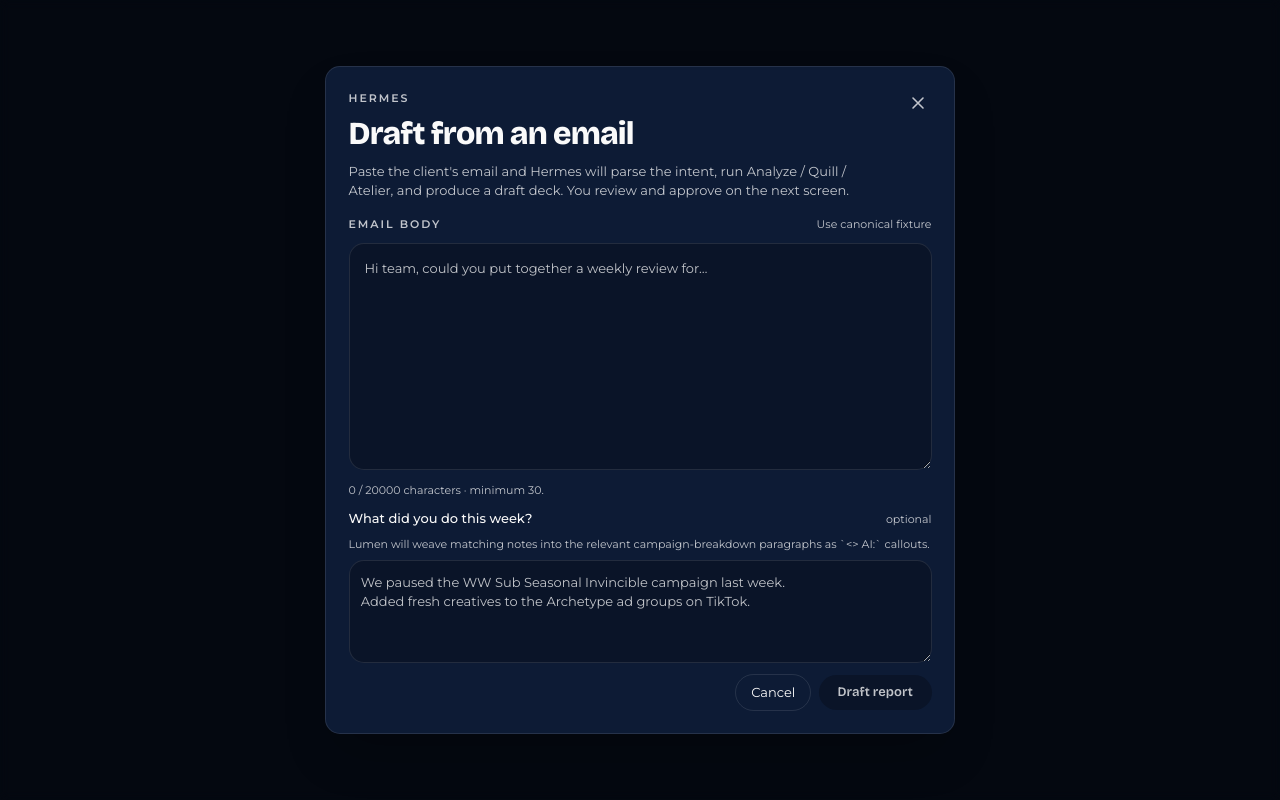
Test: DraftFromEmailModal › renders an error alert on API failure
Type "Hi team, please send us a weekly review for GlobalComix on Meta." into the text box labelled "Email body" at coordinates (640, 357), box [348,243,932,470]
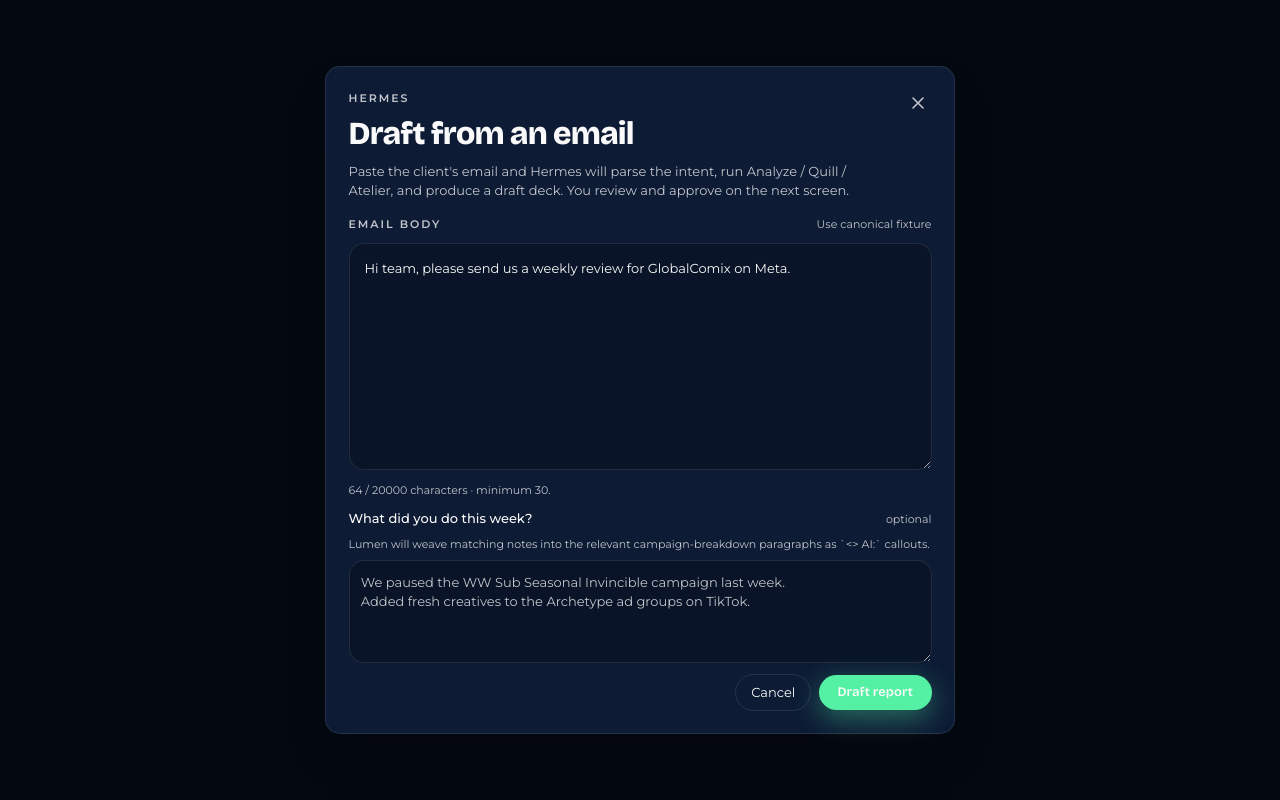
Click the button "Draft report" at coordinates (875, 692), box [819,675,932,710]
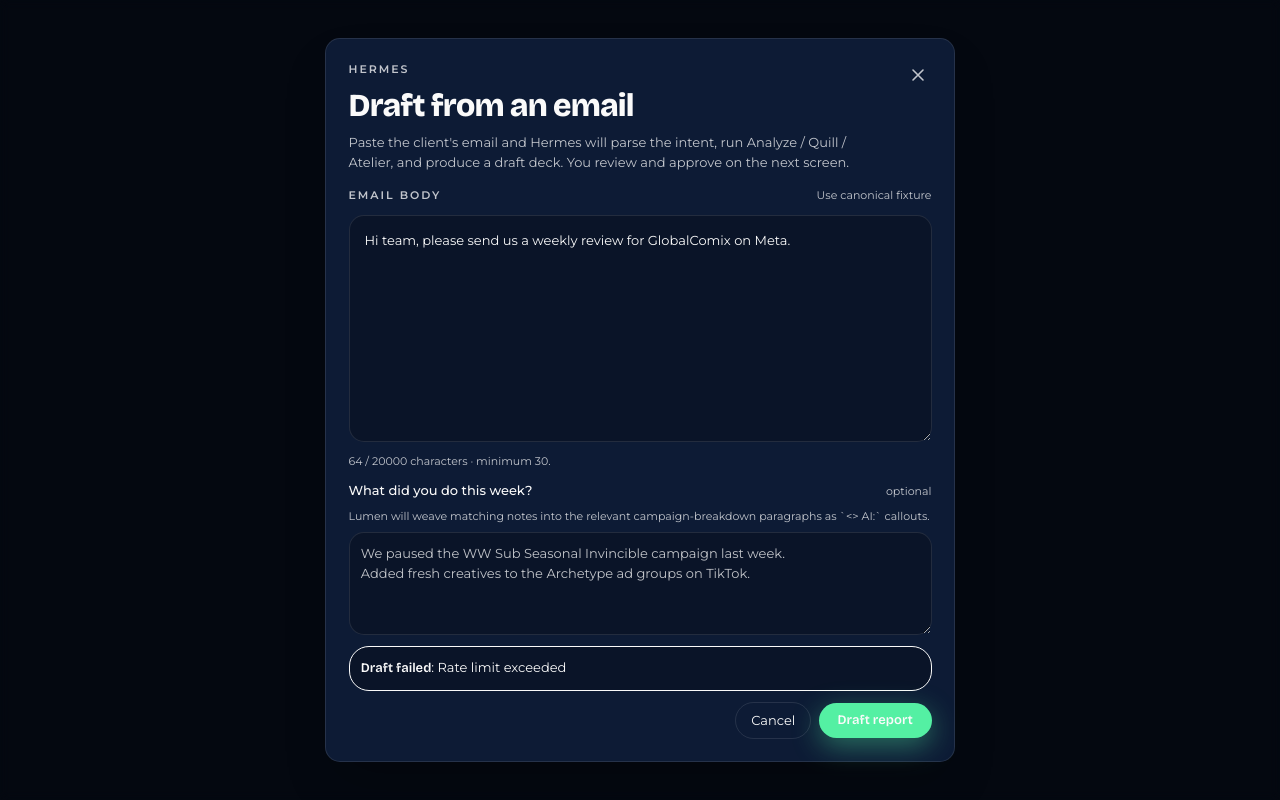
Expected: the text "Draft failed: Rate limit exceeded" is shown, [348,646,932,691]
